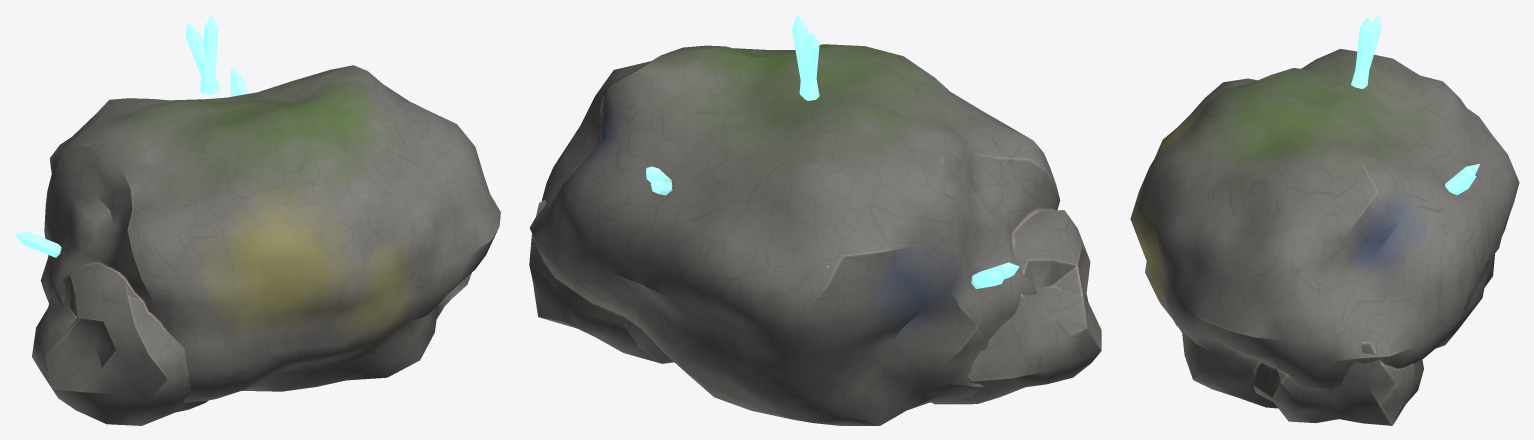
The model's file is roca_grande.fbx.
The picture shows the model from 3 angles, left to right: view 1: azimuth 30°, elevation 25°; view 2: azimuth 150°, elevation 25°; view 3: azimuth 270°, elevation 25°; orthographic projection. The views are drawn at different scales.
Visible parts, largest first — view 1: roca_grande, roca_grande_cristales_neon; view 2: roca_grande, roca_grande_cristales_neon; view 3: roca_grande, roca_grande_cristales_neon.
Boxes of the visible parts, x1,y1,x2,y2 form: roca_grande: (32, 65, 500, 425); roca_grande_cristales_neon: (14, 14, 248, 257); roca_grande: (529, 44, 1101, 425); roca_grande_cristales_neon: (646, 14, 1019, 288); roca_grande: (1130, 49, 1519, 425); roca_grande_cristales_neon: (1351, 14, 1488, 195).
Bounding box in the file's own units: 4.47 × 3.04 × 3.36.
Materials: 2 (1 with a texture image).
